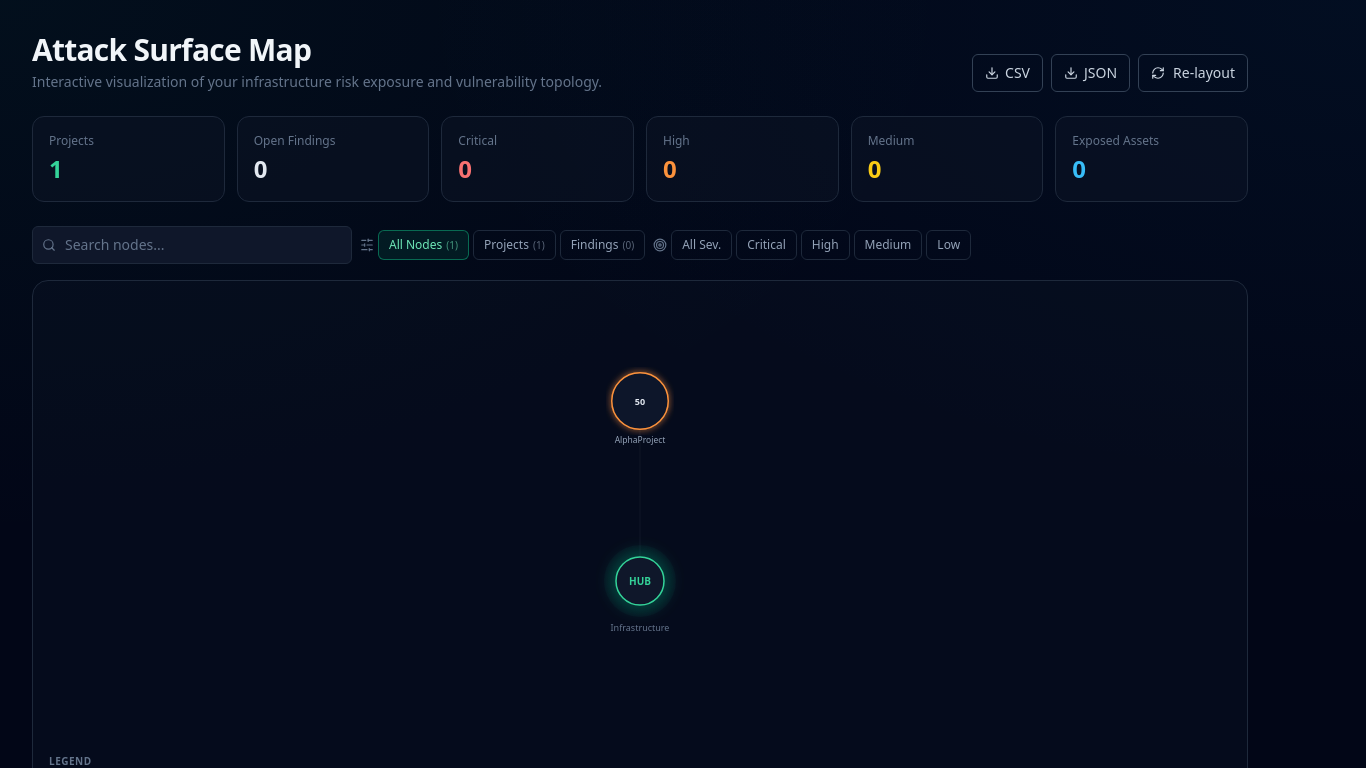
Scenario: AttackSurfaceMap — search filter › typing in search shows visible badge
Type "xyz-not-found" into the field with placeholder "Search nodes..." at {"x": 192, "y": 245}, box x1=32 y1=226 x2=352 y2=264
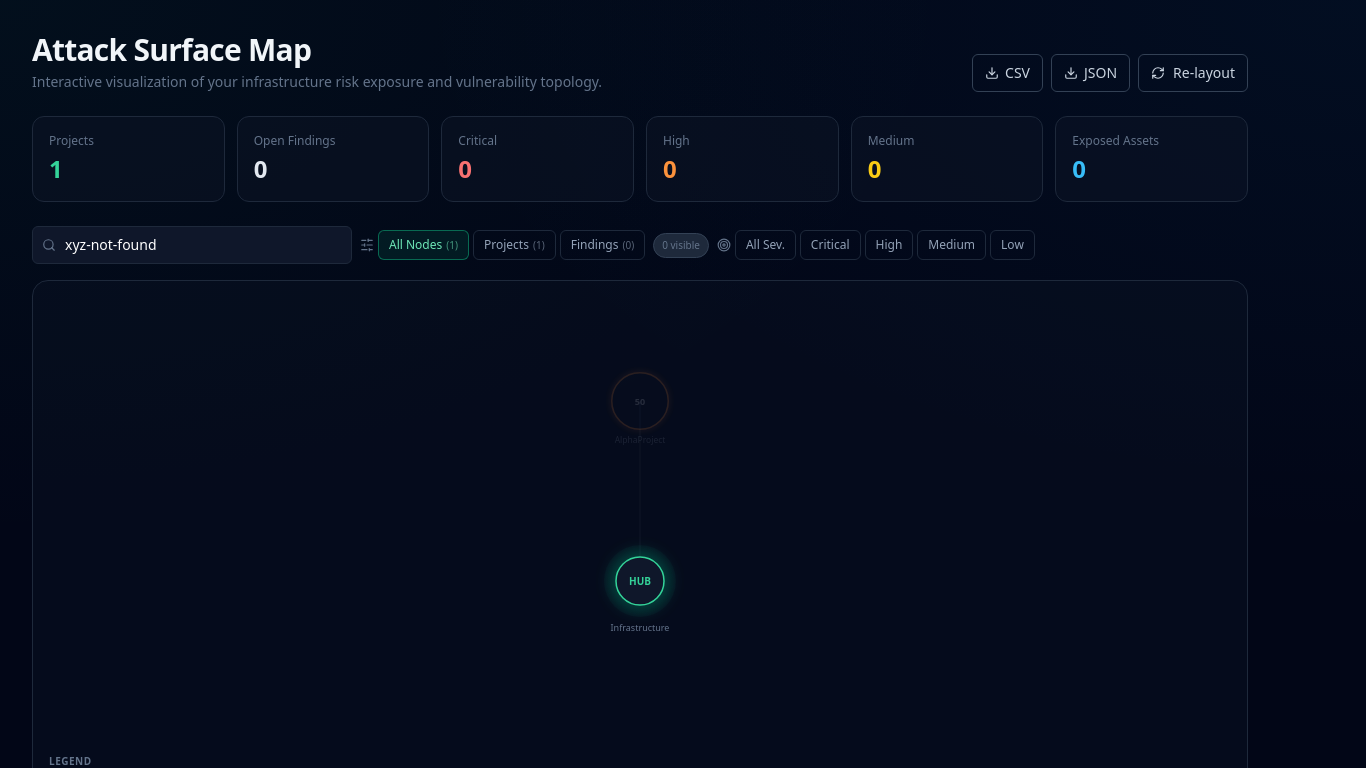
expect the text "0 visible" is shown: met, box x1=653 y1=232 x2=709 y2=258
